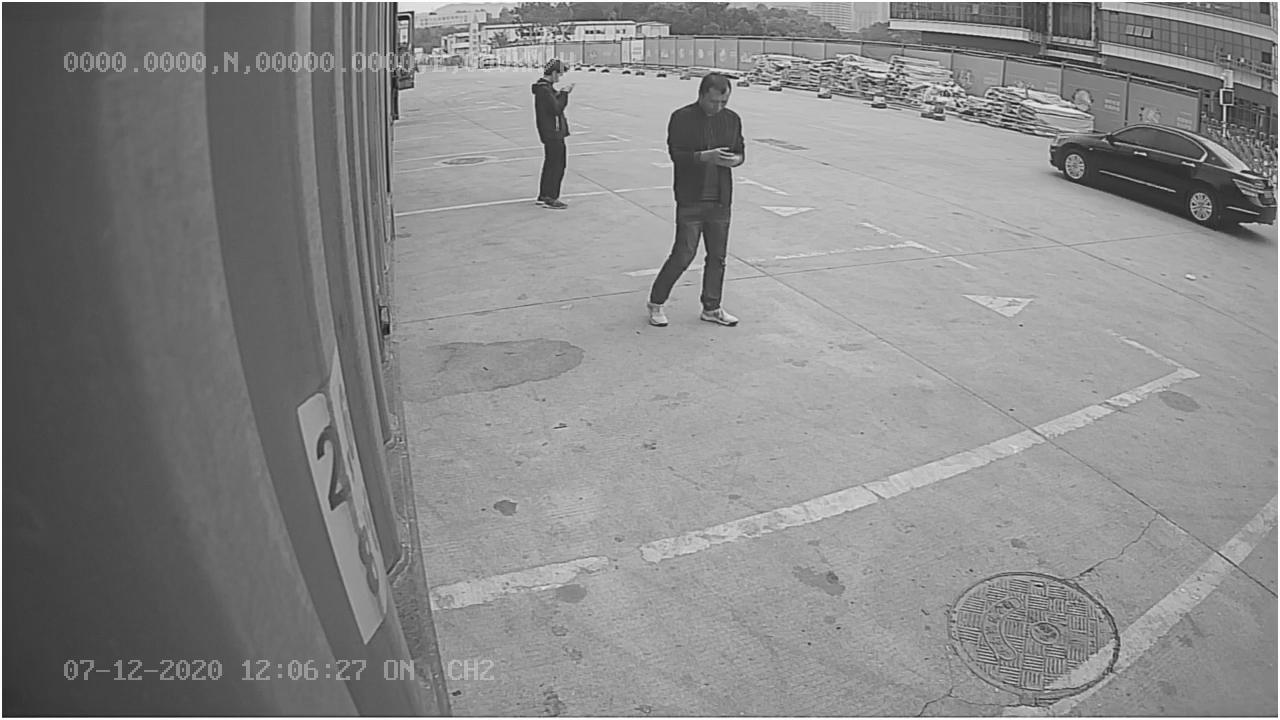person: (642, 67, 747, 330)
